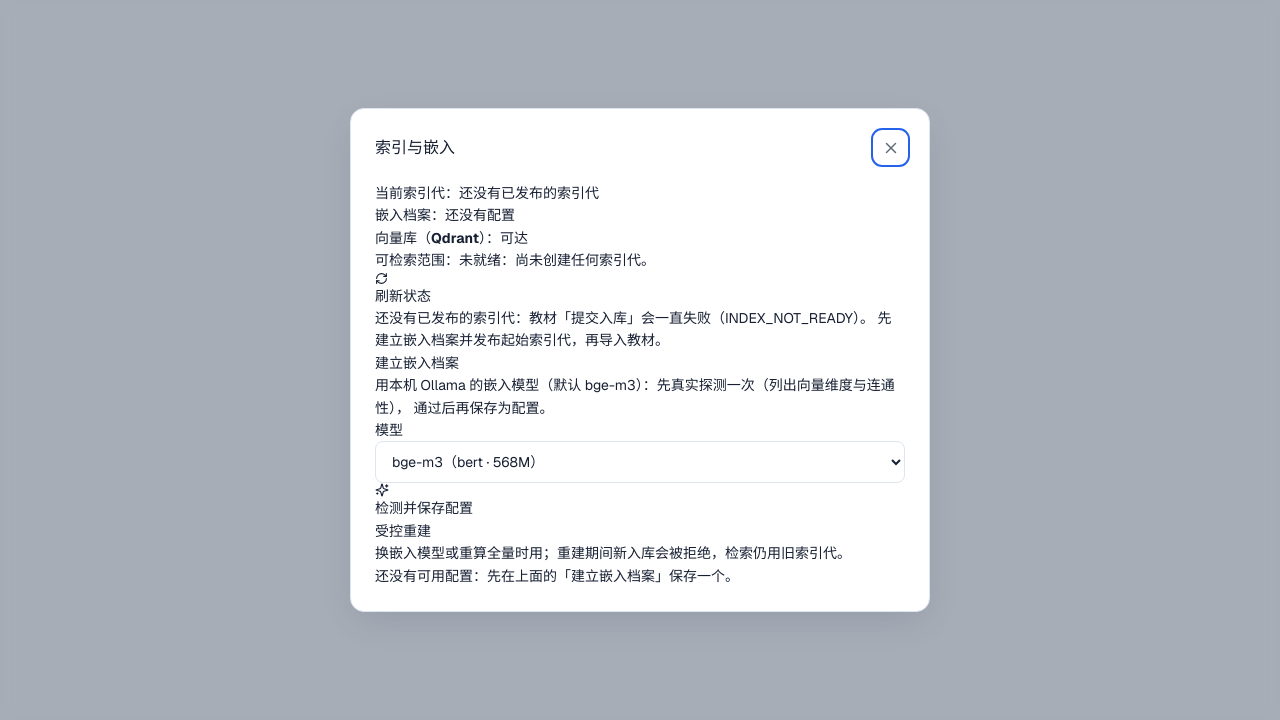
Test case: 索引与嵌入面板 › 探针/保存失败：原样显示服务端 code 与 message
Click the button with test id "textbook-embedding-save" at (424, 502), box [375,483,473,520]
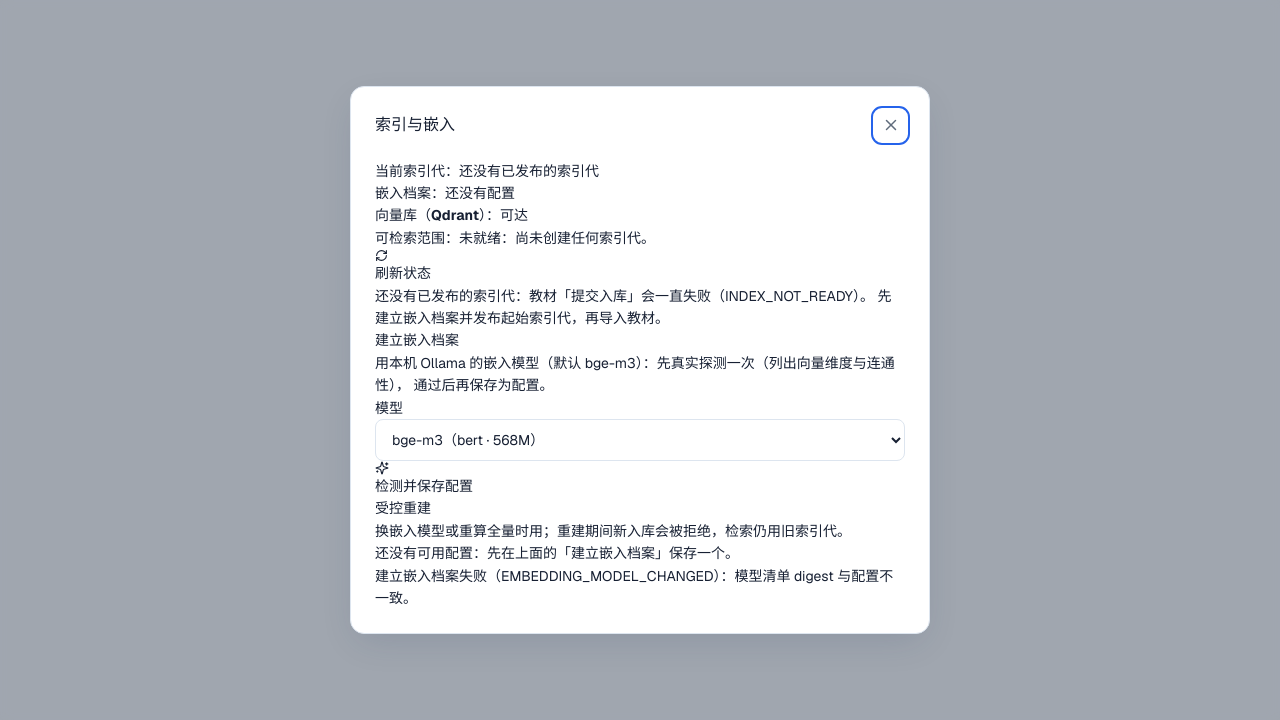
Expected: the message with test id "textbook-index-error" shows "建立嵌入档案失败（EMBEDDING_MODEL_CHANGED）", [375,566,893,607]
Expected: the message with test id "textbook-index-error" shows "模型清单 digest 与配置不一致。", [375,566,893,607]
